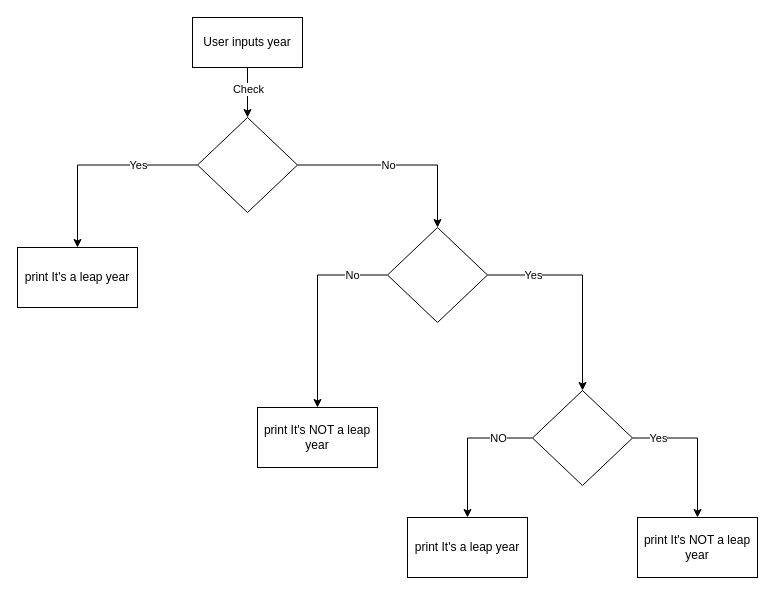
The diagram is 775 pixels wide and 595 high, and some of its shapes have lost their labels. The box of each missing label's shape, as (x1, y1, x2, y2) in pixels:
year % 100 == 0: (532, 390, 632, 486)
year % 4 == 0: (386, 226, 488, 322)
year % 400 == 0: (196, 116, 298, 212)
